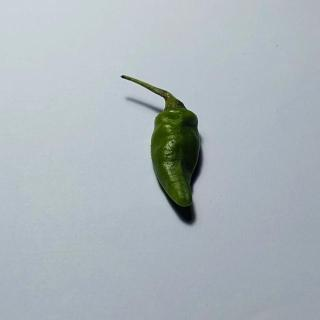Cabai Hijau: (113, 69, 207, 219)
